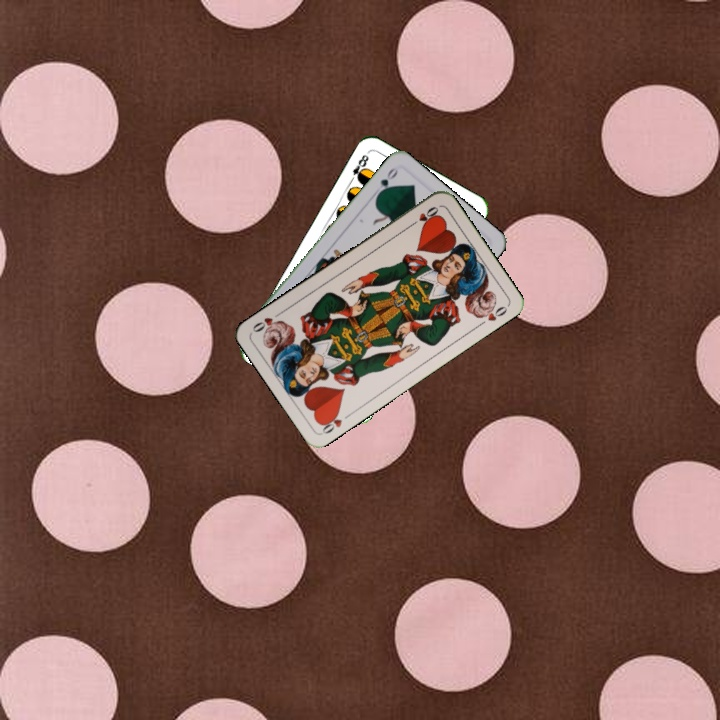E8: (345, 150, 371, 186)
GO: (369, 163, 400, 199)
HO: (405, 202, 441, 230), (316, 407, 345, 437)
